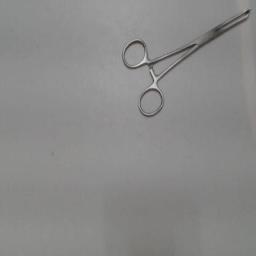Allis Tissue Forceps: (118, 4, 254, 124)
